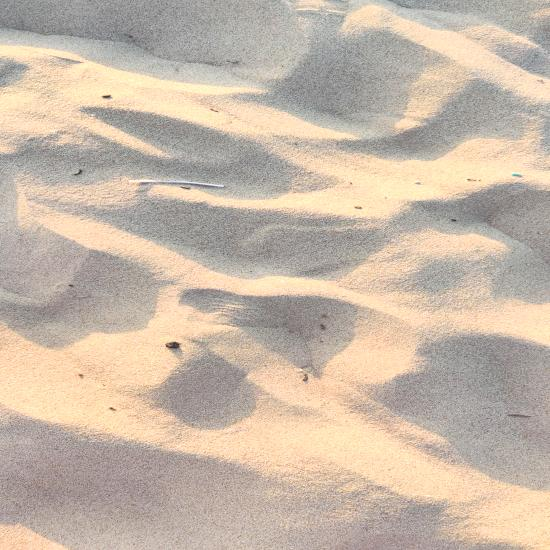Plastic film: (96, 212, 304, 261), (510, 398, 550, 462), (66, 241, 103, 253), (184, 247, 211, 260), (403, 208, 423, 219)
